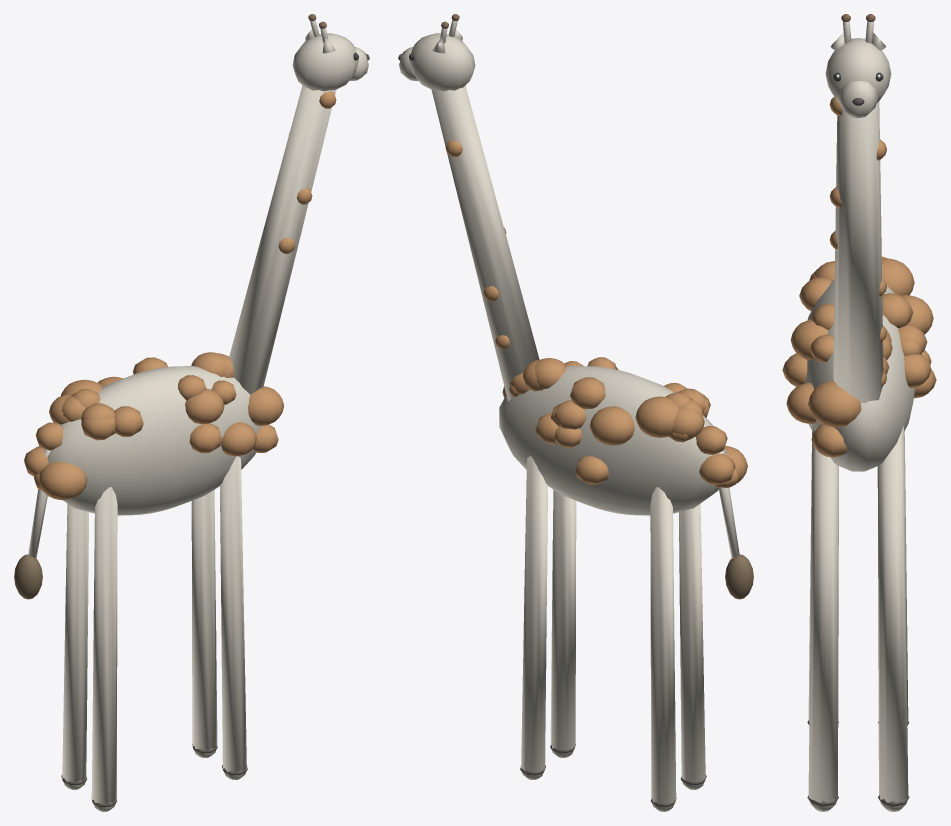
The model's file is somali-giraffe.glb.
The picture shows the model from 3 angles, left to right: view 1: azimuth 30°, elevation 25°; view 2: azimuth 150°, elevation 25°; view 3: azimuth 270°, elevation 25°; orthographic projection. The views are drawn at different scales.
Visible parts, largest first — view 1: e, cone, e.065; view 2: e, cone, e.065; view 3: e, cone.
Part boxes in pixels (bbox=[...]): e: bbox=[24, 85, 336, 811]; cone: bbox=[292, 14, 369, 91]; e.065: bbox=[14, 449, 50, 599]; e: bbox=[431, 85, 747, 811]; cone: bbox=[398, 14, 475, 91]; e.065: bbox=[718, 450, 753, 599]; e: bbox=[782, 96, 936, 811]; cone: bbox=[825, 14, 891, 117].
Bounding box in the file's own units: 1.63 × 3.2 × 0.5255.
